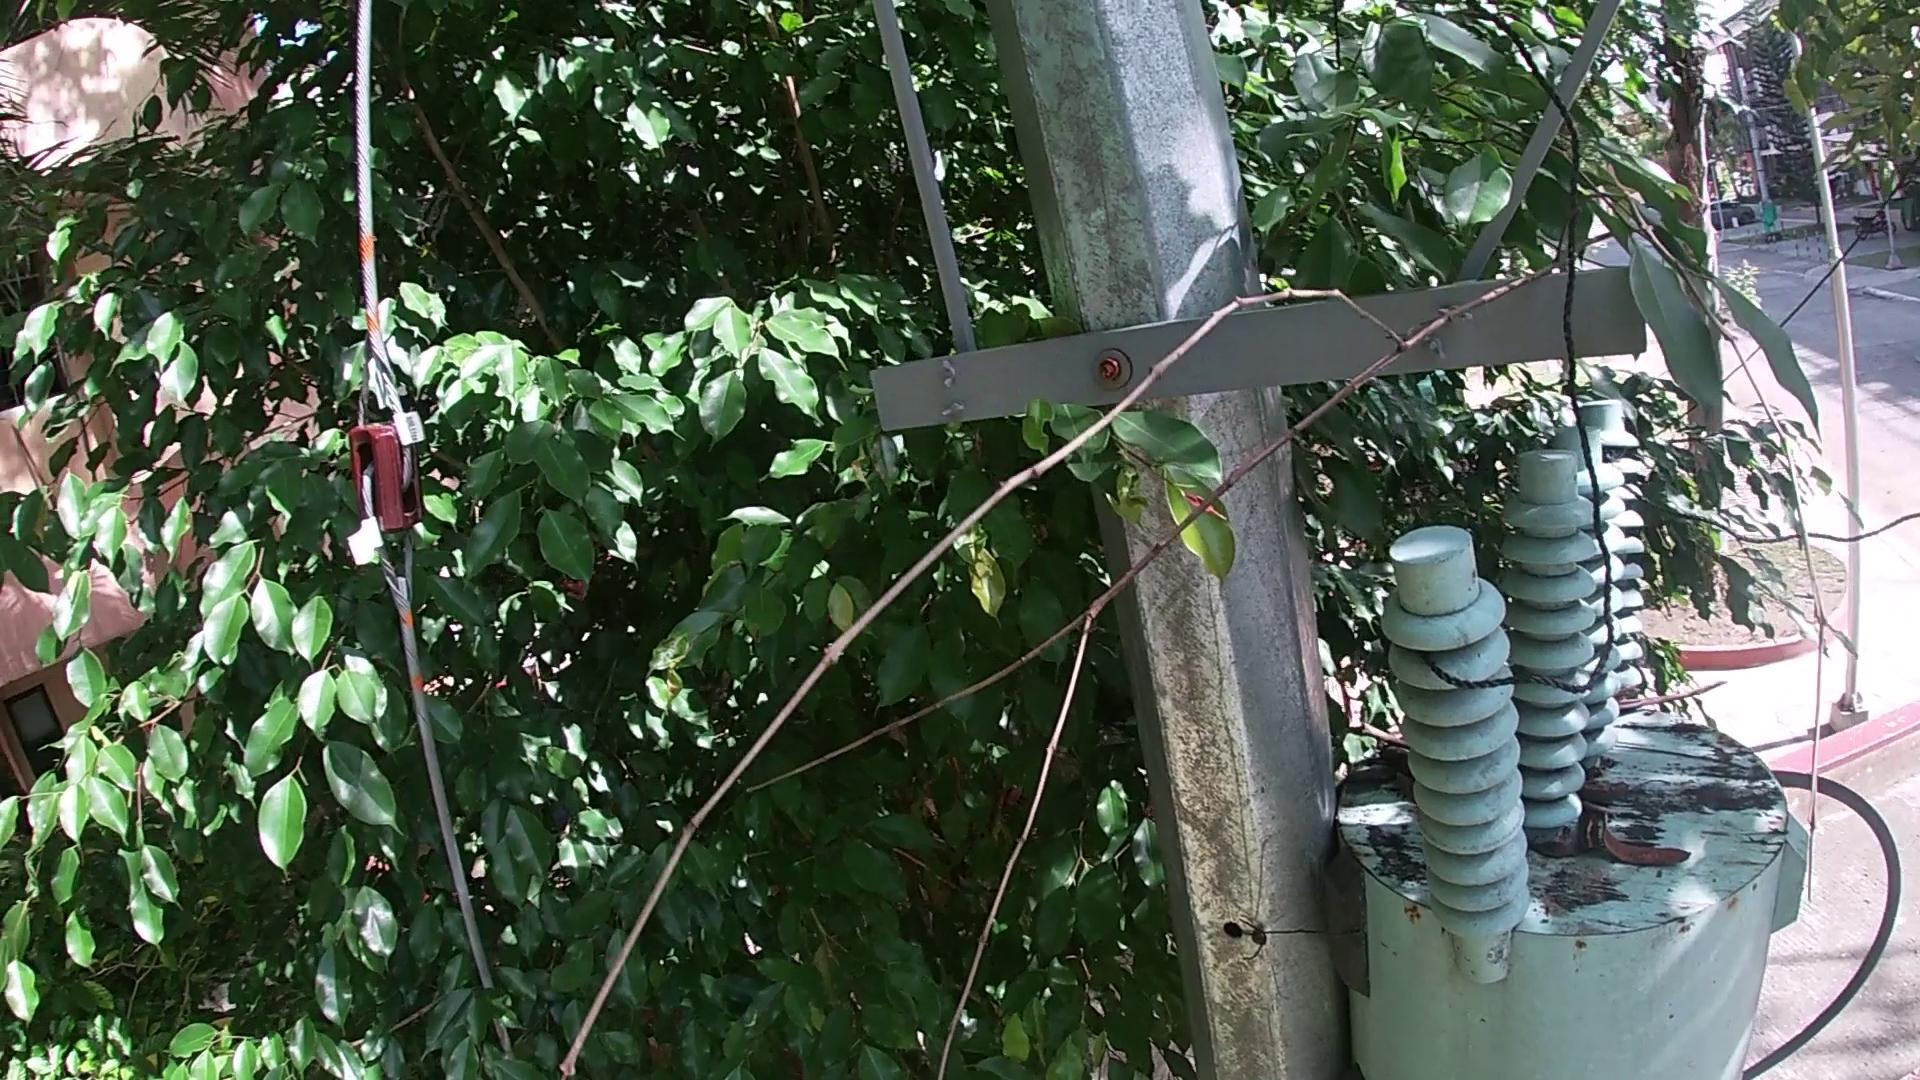leaf: (1596, 808, 1697, 872), (1393, 771, 1415, 802)
tree branch: (553, 218, 1847, 1077), (1619, 674, 1731, 711), (1354, 721, 1415, 767)
